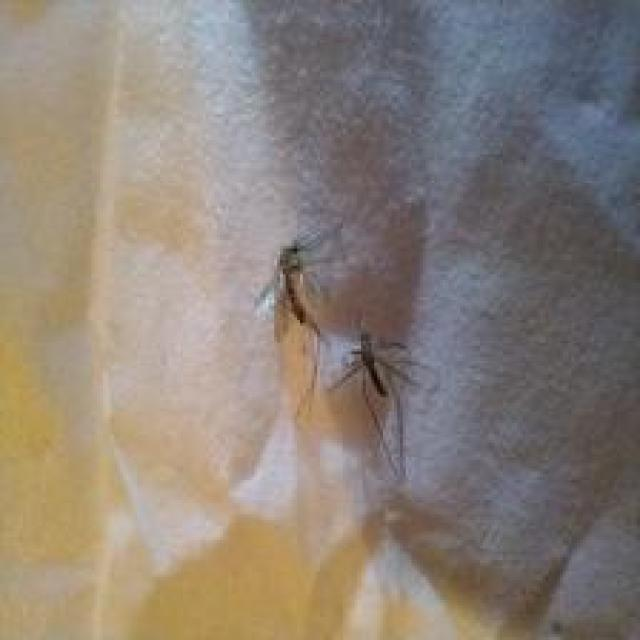Culex: (326, 320, 423, 483)
